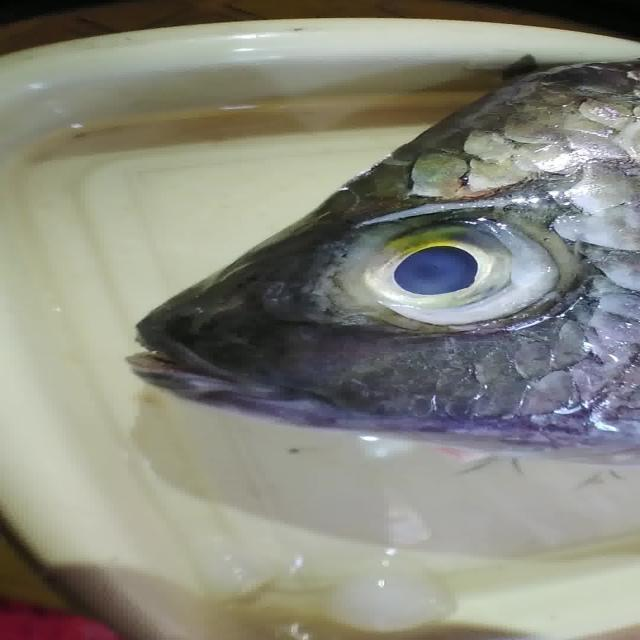Fresh: (334, 218, 565, 329)
